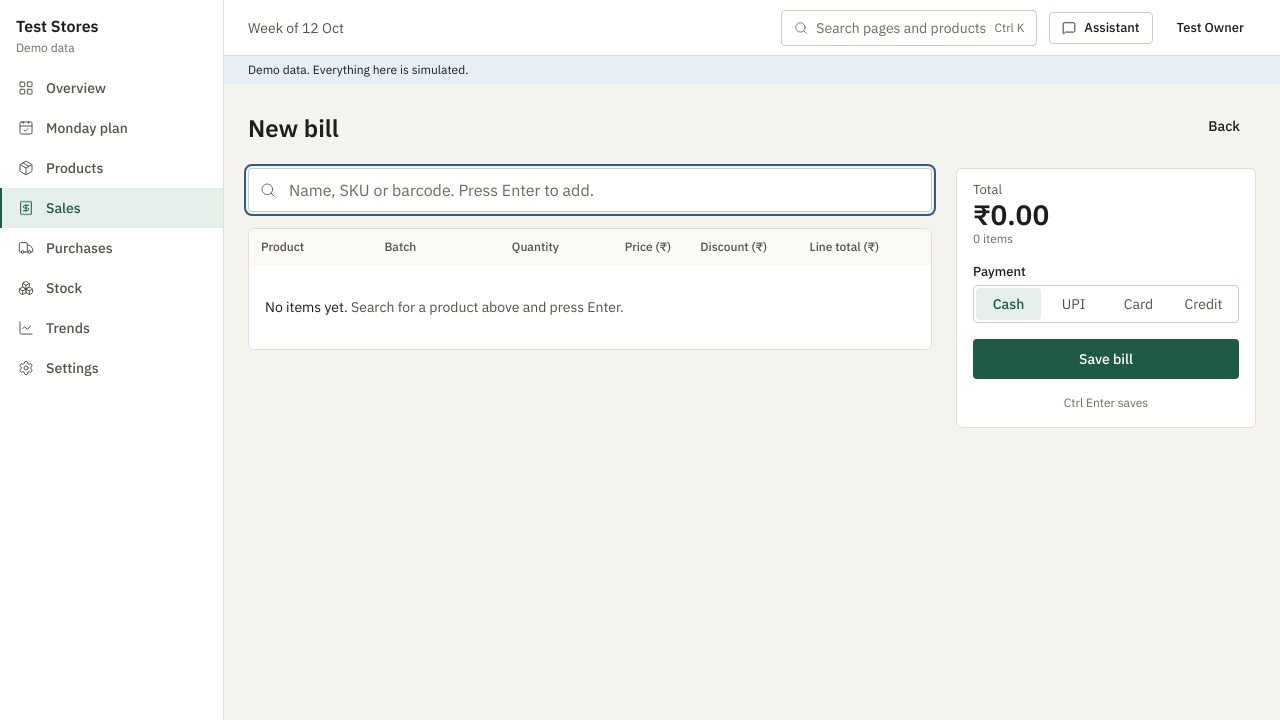
Test case: sale entry keyboard flow › adding the same product again raises its quantity
In the dropdown named "Find a product": (590, 190) top-left (248, 168), bottom-right (932, 212), type "pepper"
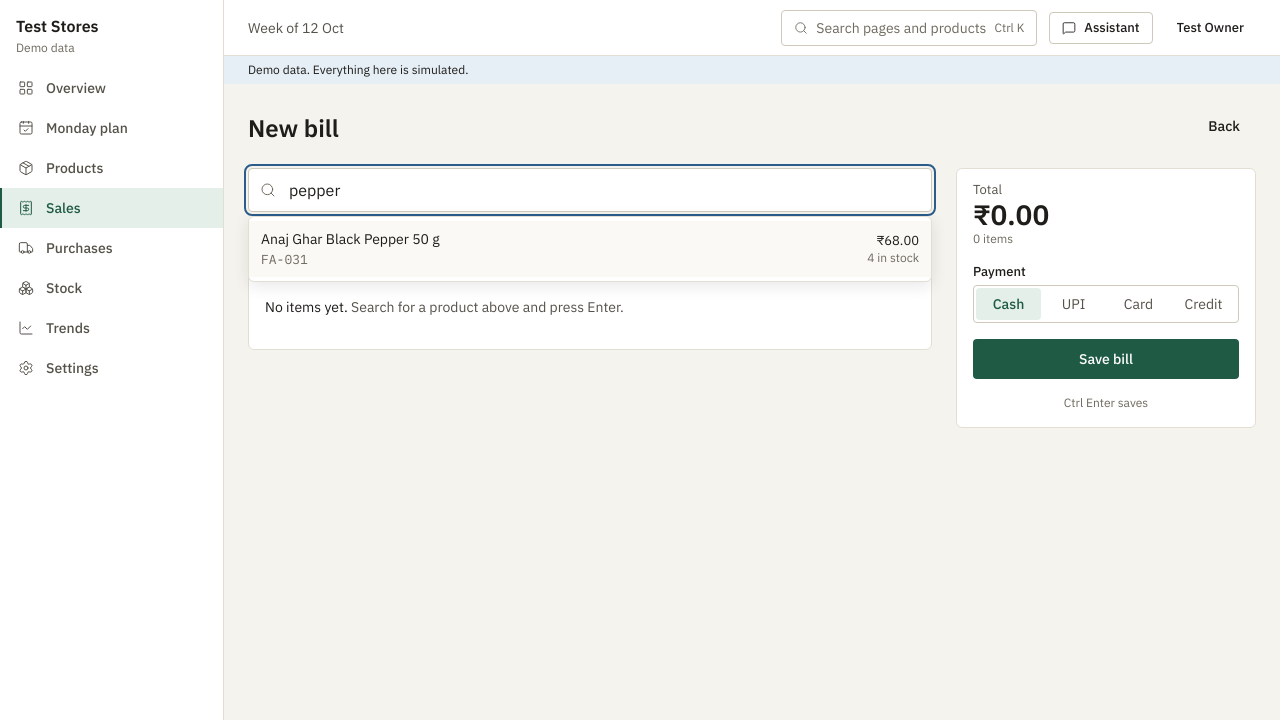
Expected: the option "Anaj Ghar Black Pepper 50 g FA-031 ₹68.00 4 in stock" is shown, top-left (249, 221), bottom-right (931, 277)
Press Enter
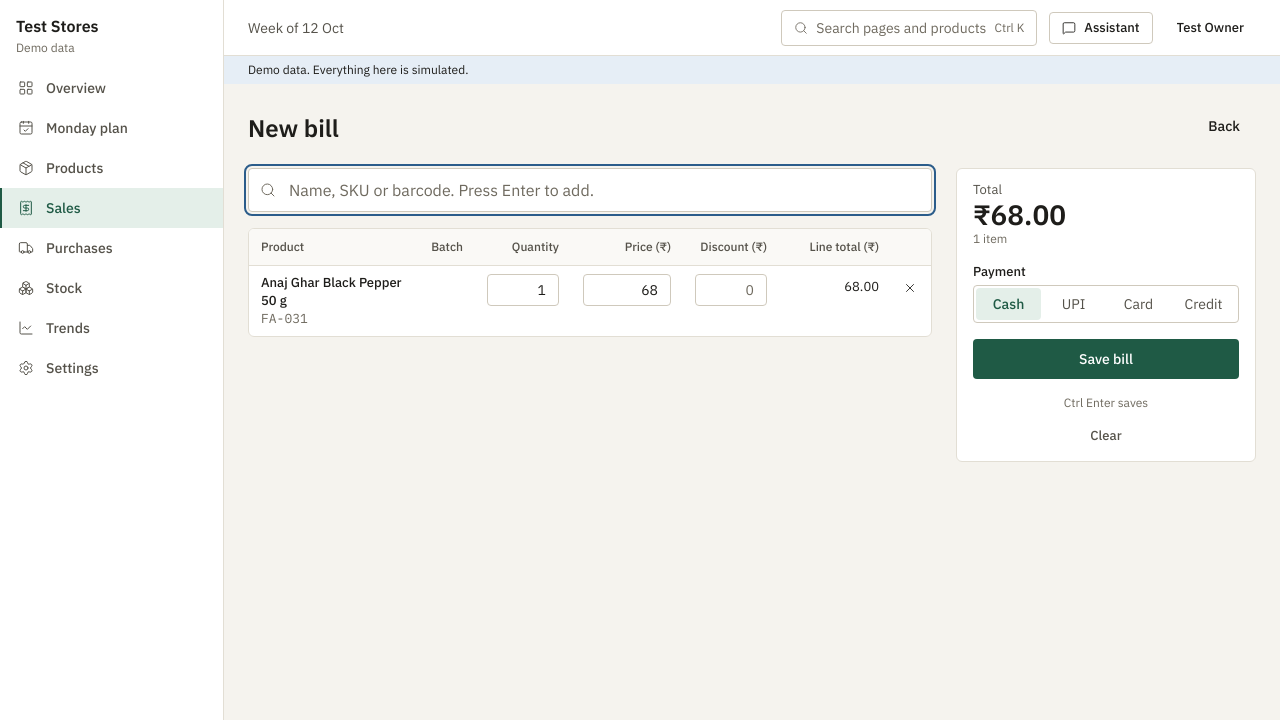
In the dropdown named "Find a product": (590, 190) top-left (248, 168), bottom-right (932, 212), type "pepper"
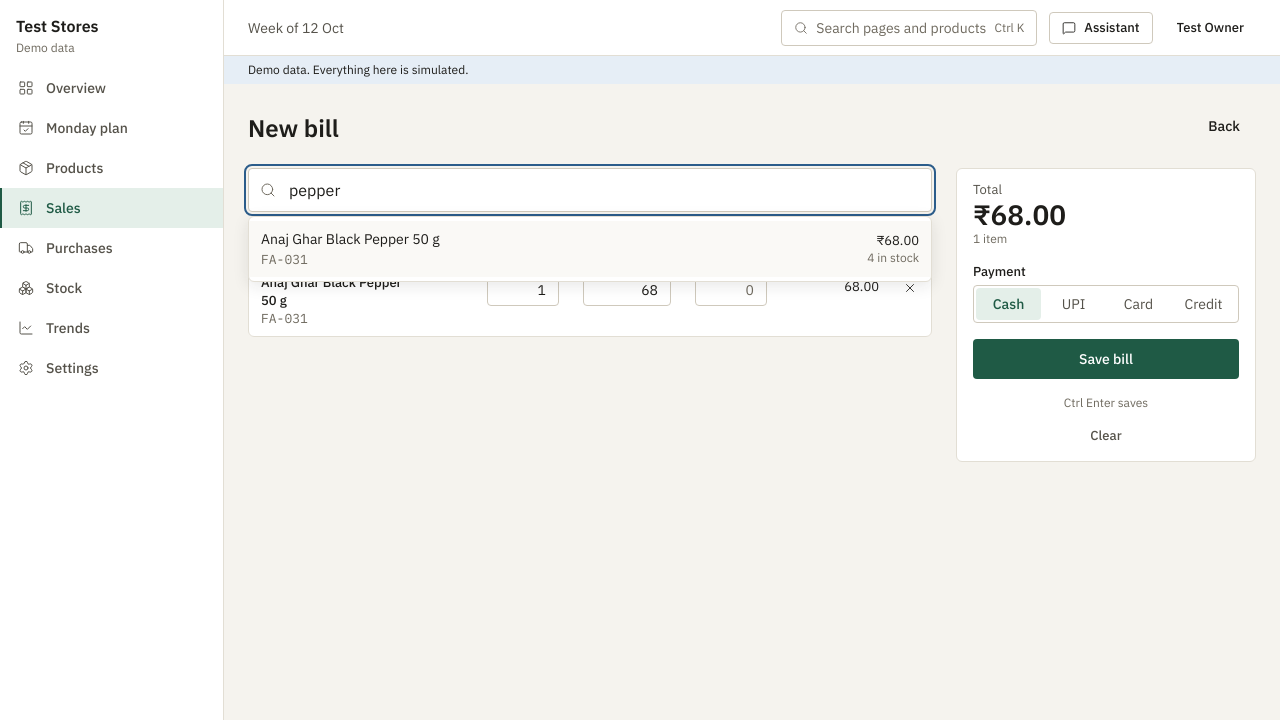
Expected: the option "Anaj Ghar Black Pepper 50 g FA-031 ₹68.00 4 in stock" is shown, top-left (249, 221), bottom-right (931, 277)
Press Enter
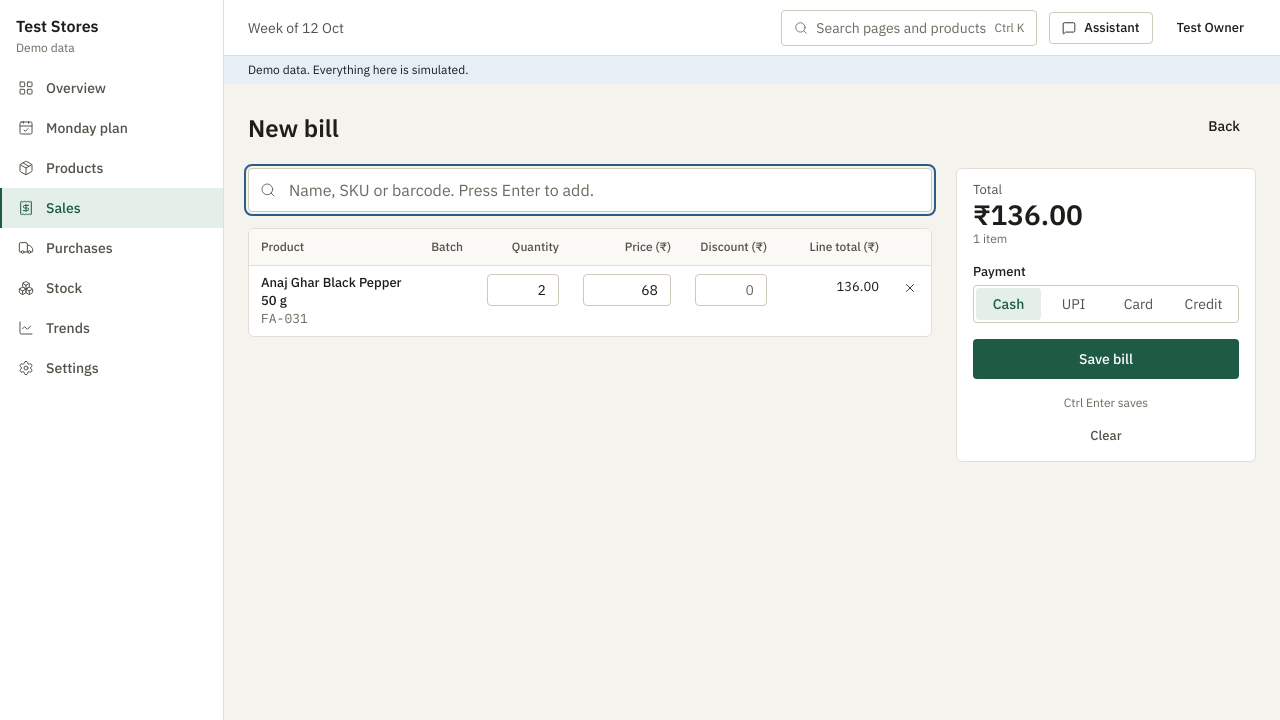
Expected: the number of fields named "Quantity of " is 1, top-left (487, 274), bottom-right (559, 306)
Expected: the field named "Quantity of Anaj Ghar Black Pepper 50 g" holds "2", top-left (487, 274), bottom-right (559, 306)
